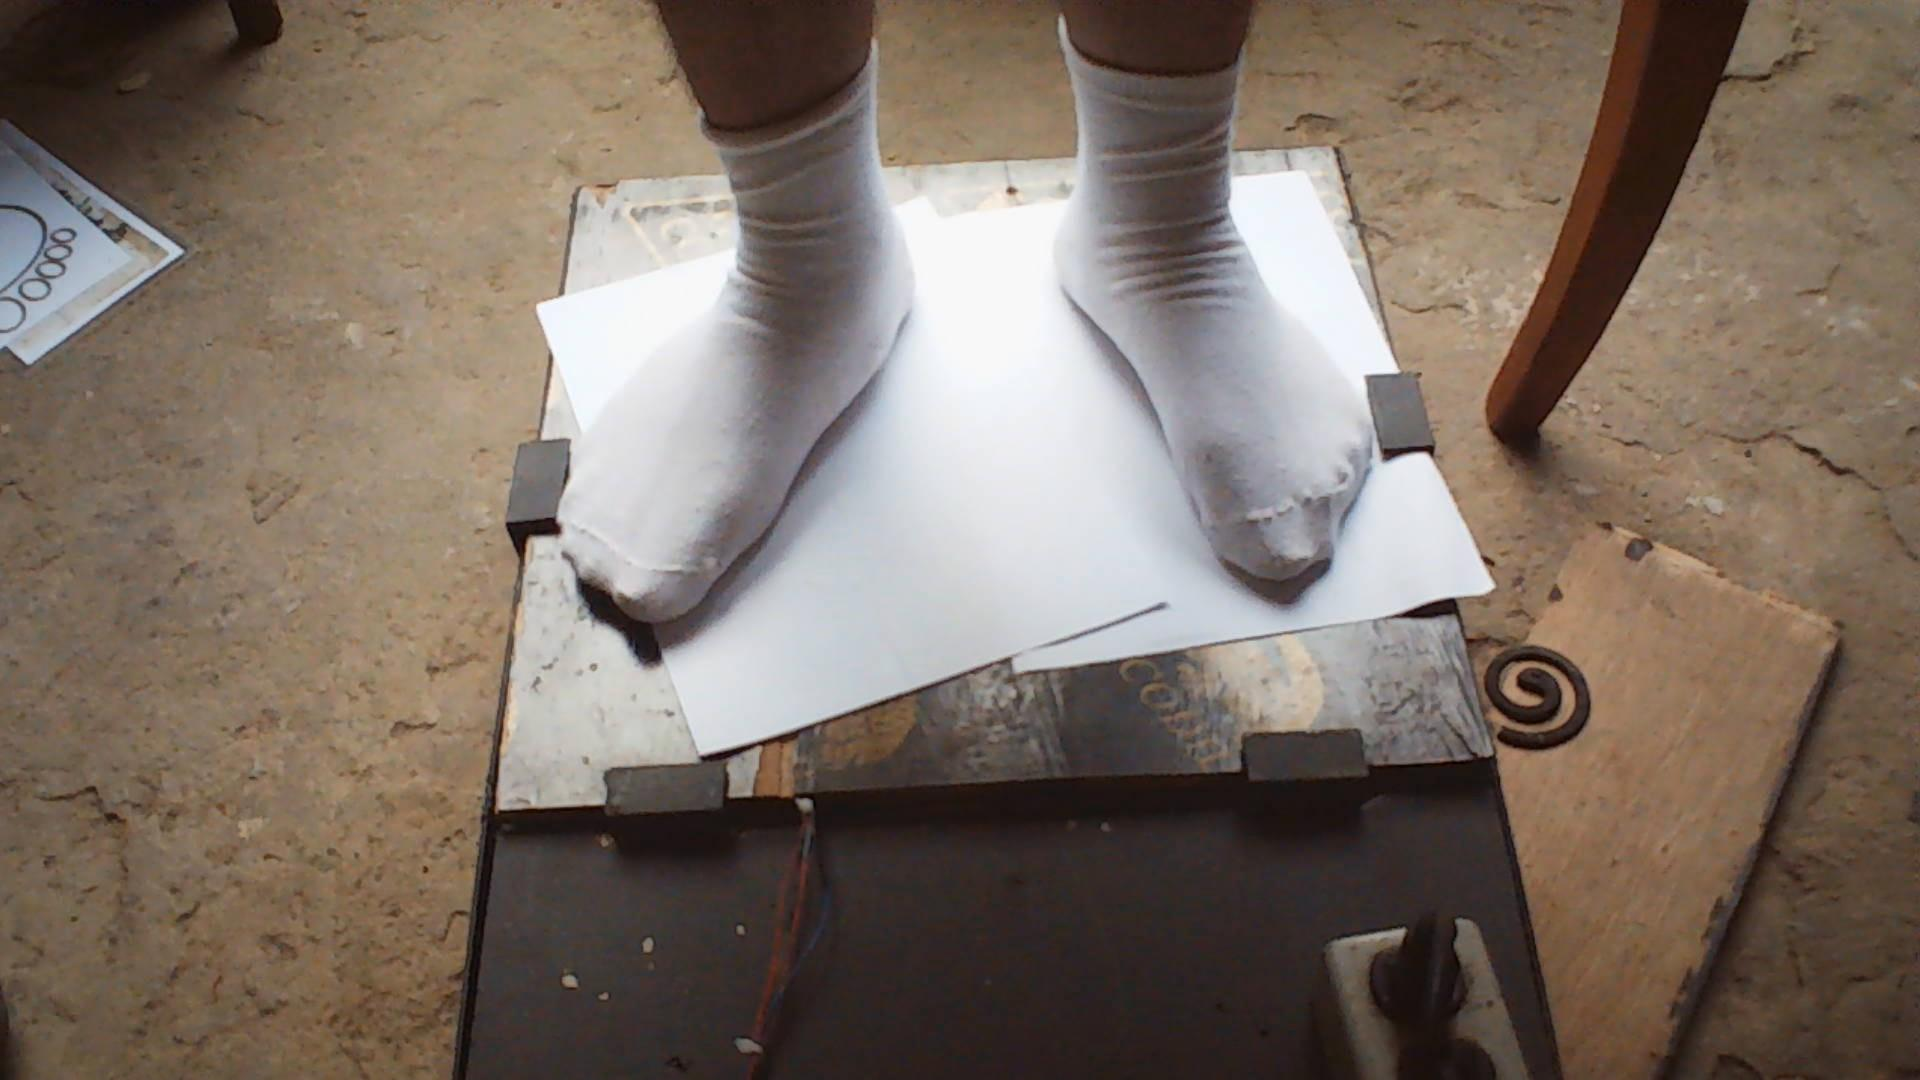white_socks: (955, 22, 1452, 680), (541, 42, 1007, 705), (553, 47, 915, 625), (1055, 20, 1379, 580)
